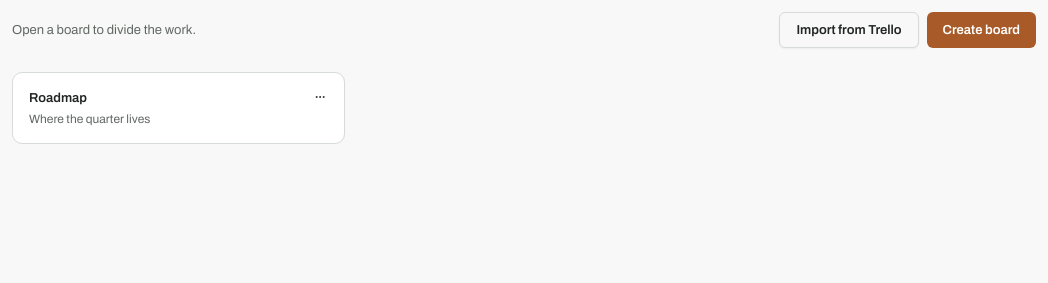
Scenario: BoardList - inline rename › opens the inline editor with the name selected, and keeps the named menu item
The width and height of the screenshot is (1048, 283).
Press Enter in the button named "Board actions", box [308,85,332,109]
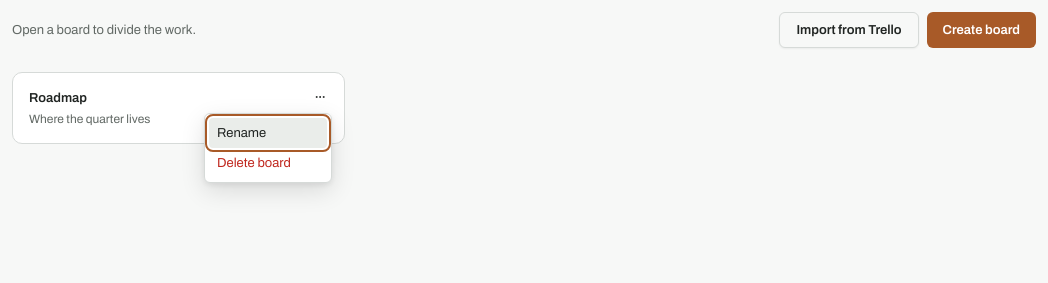
Click the menu item "Rename" at (268, 133), box [209,118,327,148]
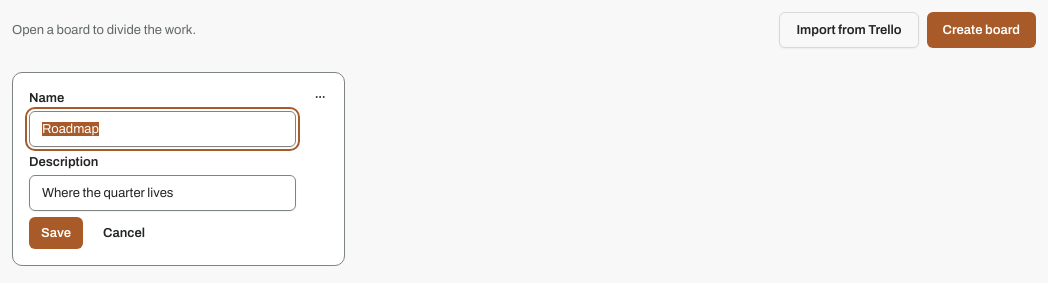
Check: the field labelled "Name" holds "Roadmap", box [29,111,296,147]
Check: the field labelled "Description" holds "Where the quarter lives", box [29,175,296,211]
